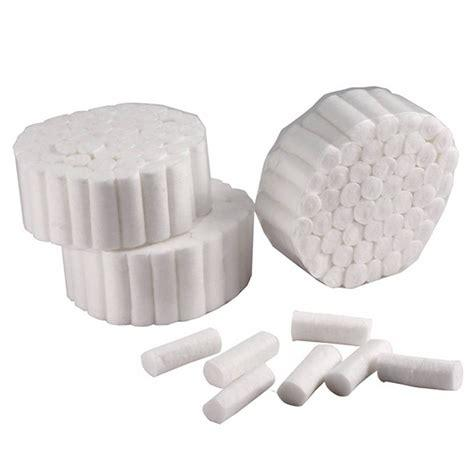cotton: (259, 89, 450, 287), (15, 105, 216, 248), (61, 176, 253, 324), (272, 338, 340, 410), (202, 329, 283, 387), (139, 329, 223, 381), (327, 333, 392, 398), (205, 366, 273, 425), (288, 308, 375, 349), (367, 355, 463, 391)
